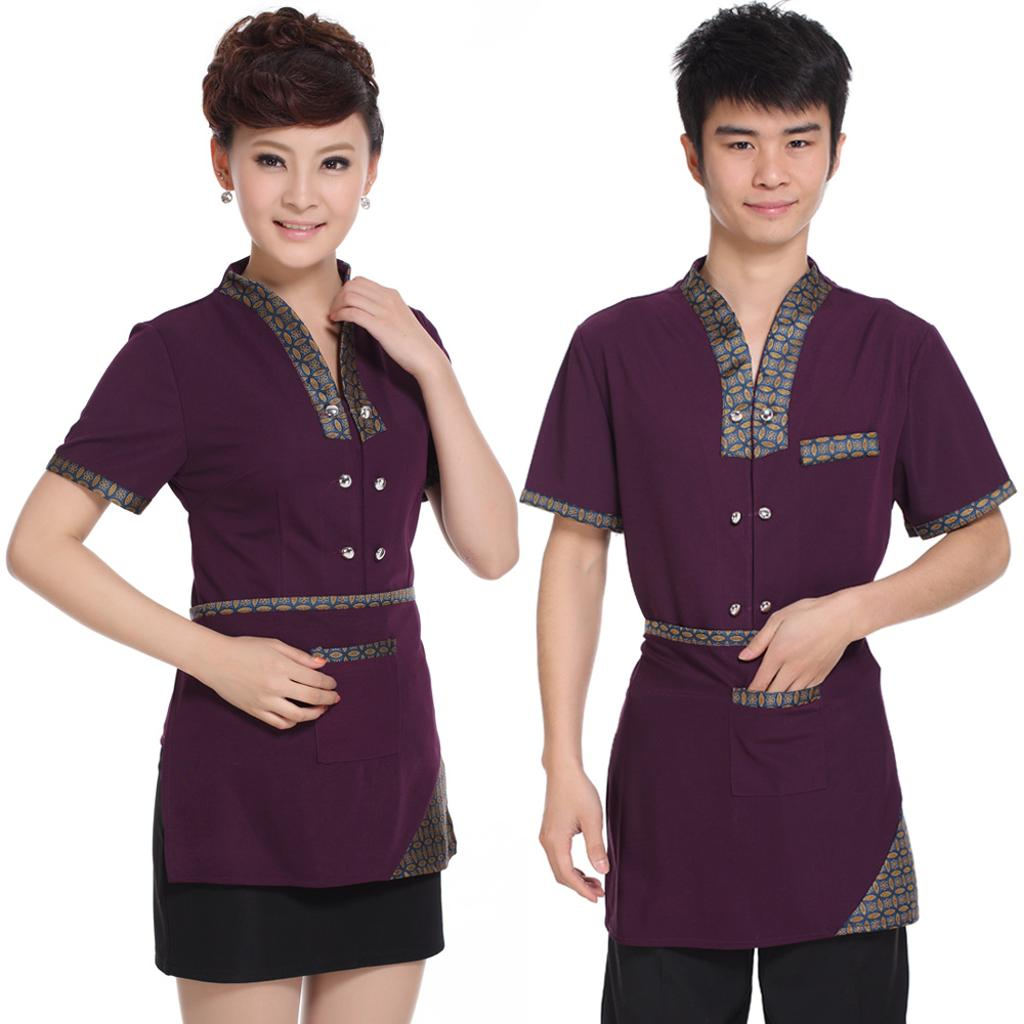face: (232, 86, 372, 270), (698, 56, 832, 242)
